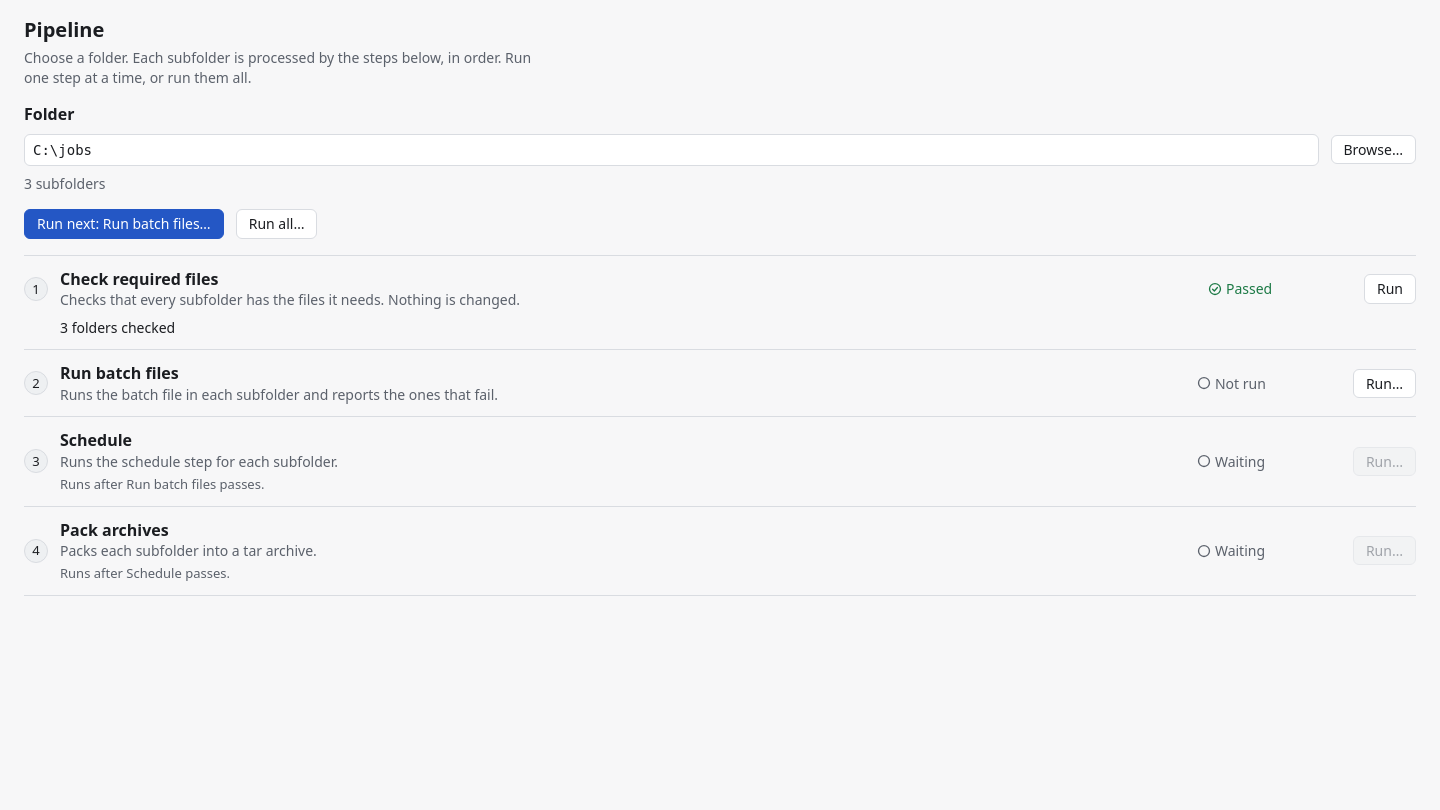
it: the batch step asks first, and cancelling runs nothing
The image size is (1440, 810).
Expected: the field labelled "Folder" is shown, [24,134,1318,166]
Click the button with aria-label "Run Run batch files" at (1384, 383), box [1353,368,1416,398]
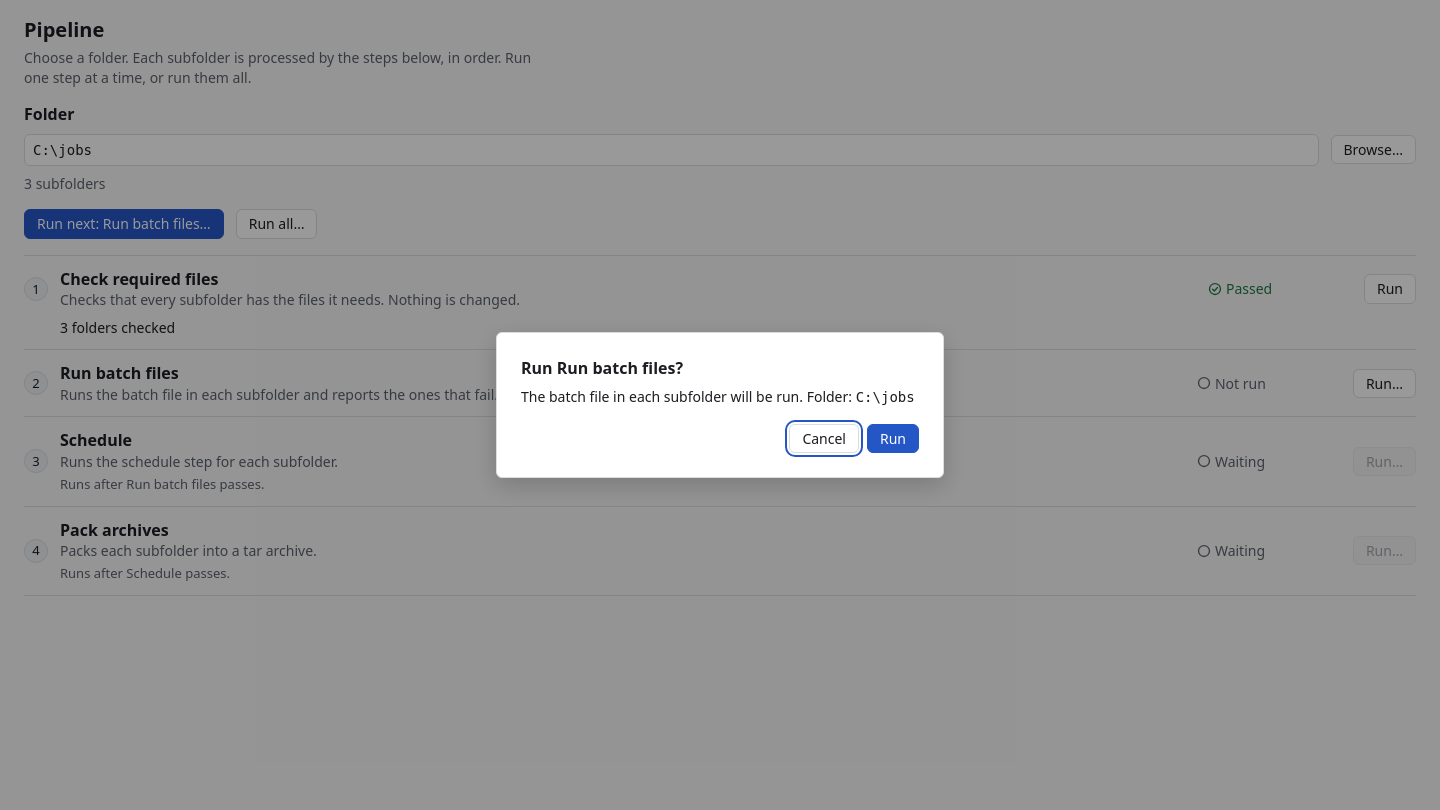
Result: the dialog "Run Run batch files?" shows "C:\\jobs" at [856,389,915,405]
Click the button "Cancel" at (824, 438), box [789,424,859,453]
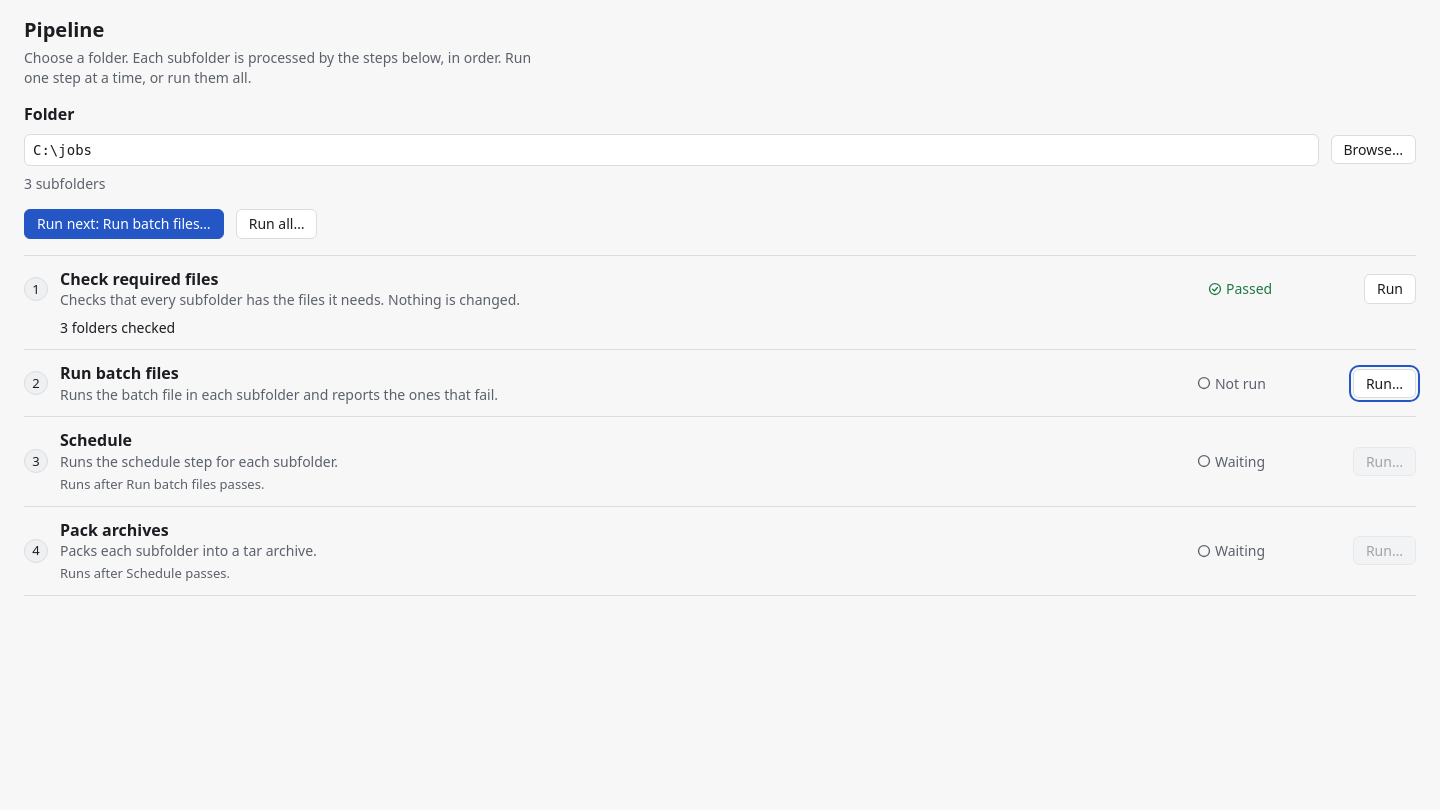
Click the button with aria-label "Run Run batch files" at (1384, 383), box [1353,368,1416,398]
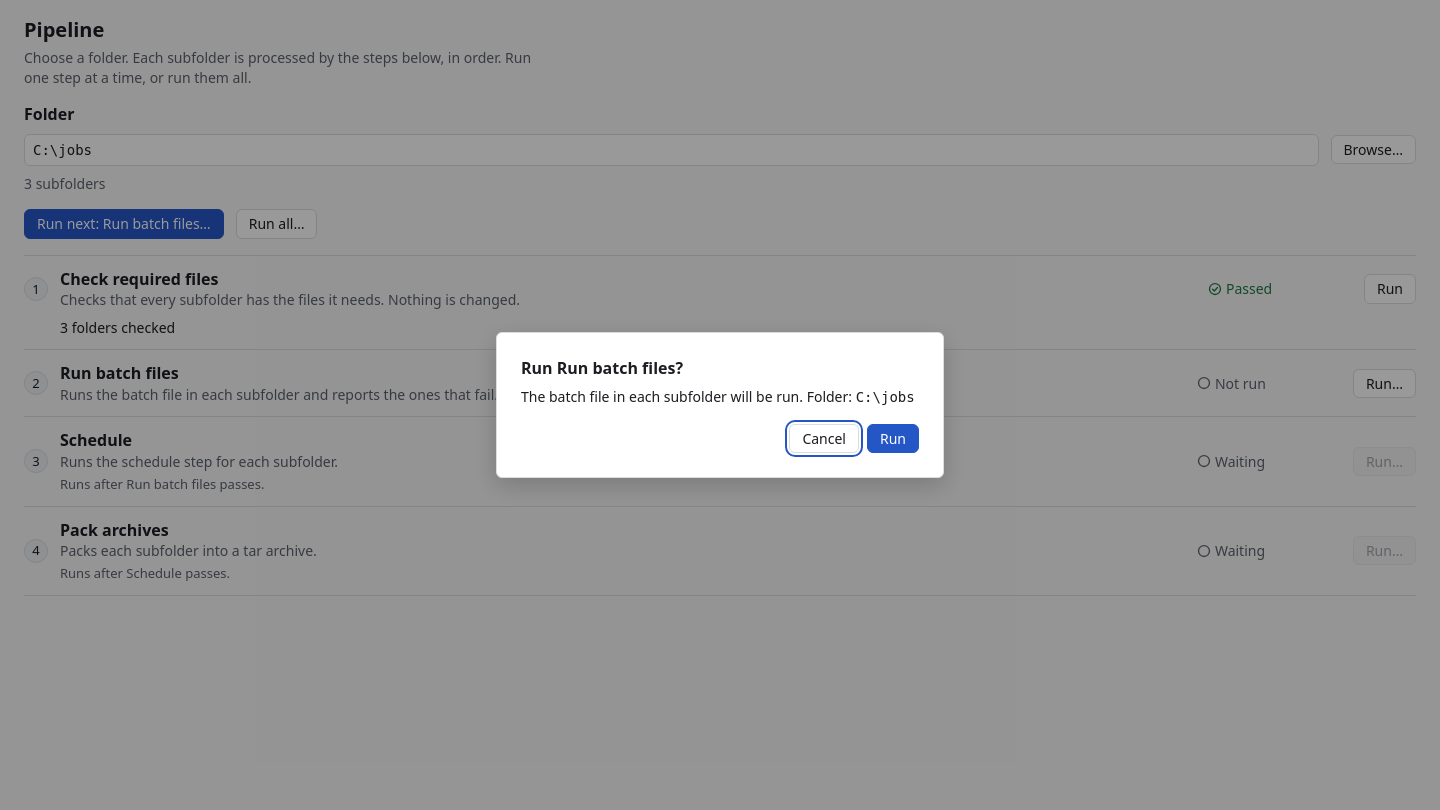
Click the button "Run" at (893, 438), box [867,424,919,453]
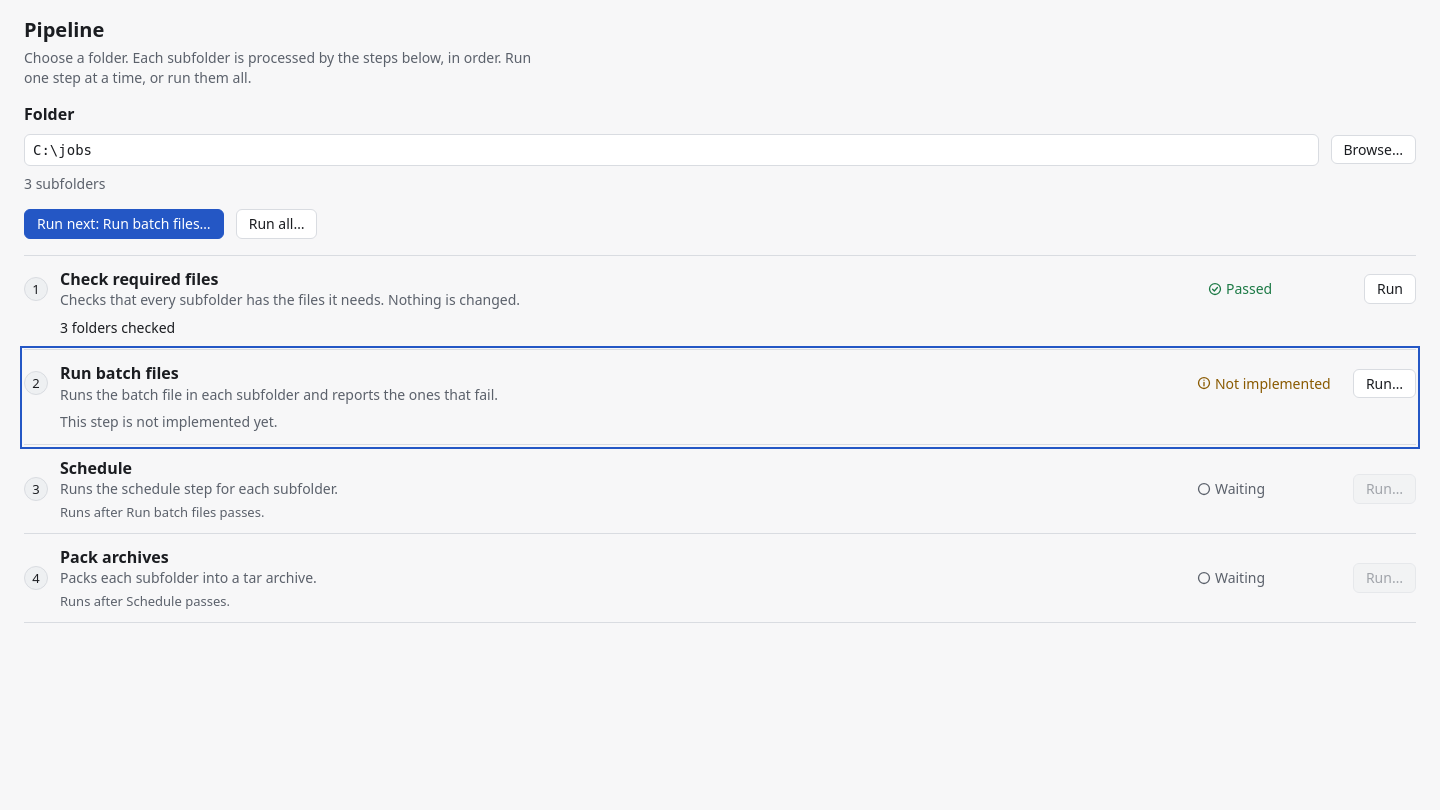
Result: the text "Not implemented" is shown at [1197,374,1341,393]
